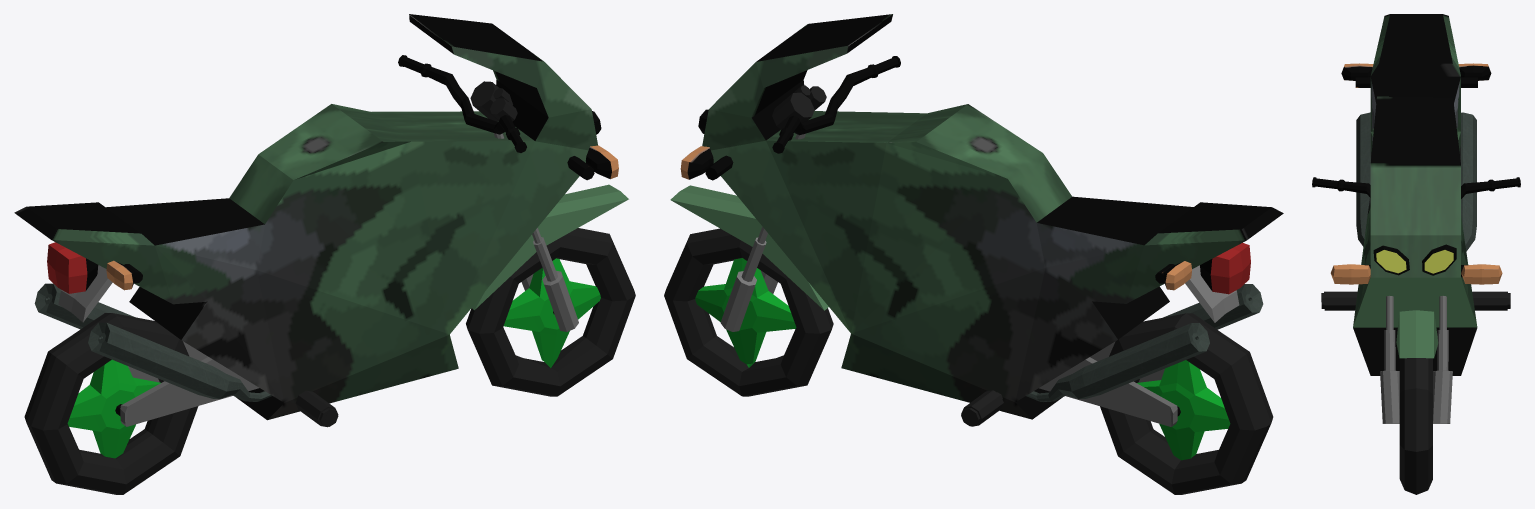
The model's file is rueda.glb.
3 renders of one model, left to right at view 1: azimuth 30°, elevation 25°; view 2: azimuth 150°, elevation 25°; view 3: azimuth 270°, elevation 25°, orthographic. The views are drawn at different scales.
Visible parts, largest first — view 1: Moto_0; view 2: Moto_0; view 3: Moto_0.
Part boxes in pixels (box(x1,y1,x2,y2)): Moto_0: box(14, 14, 635, 494); Moto_0: box(664, 14, 1283, 494); Moto_0: box(1312, 14, 1520, 494).
Size of the model in its own units: 6.48 by 4.06 by 2.24.
1 material, 1 textured.
